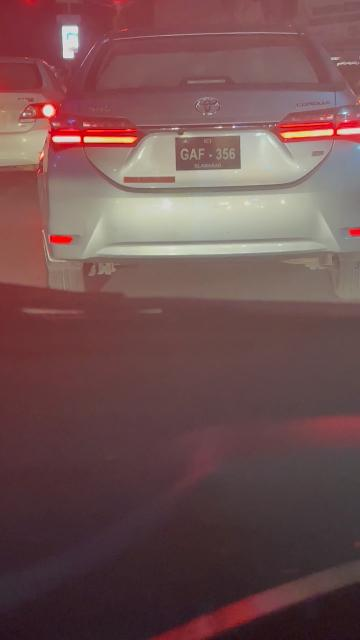plate: (178, 139, 243, 167)
